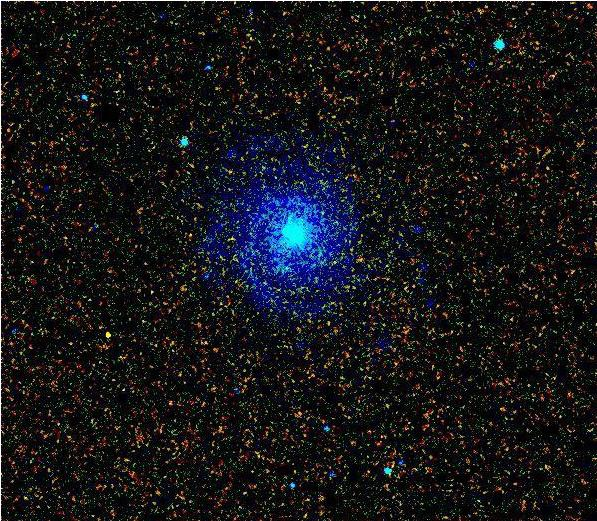star: (93, 317, 123, 347)
